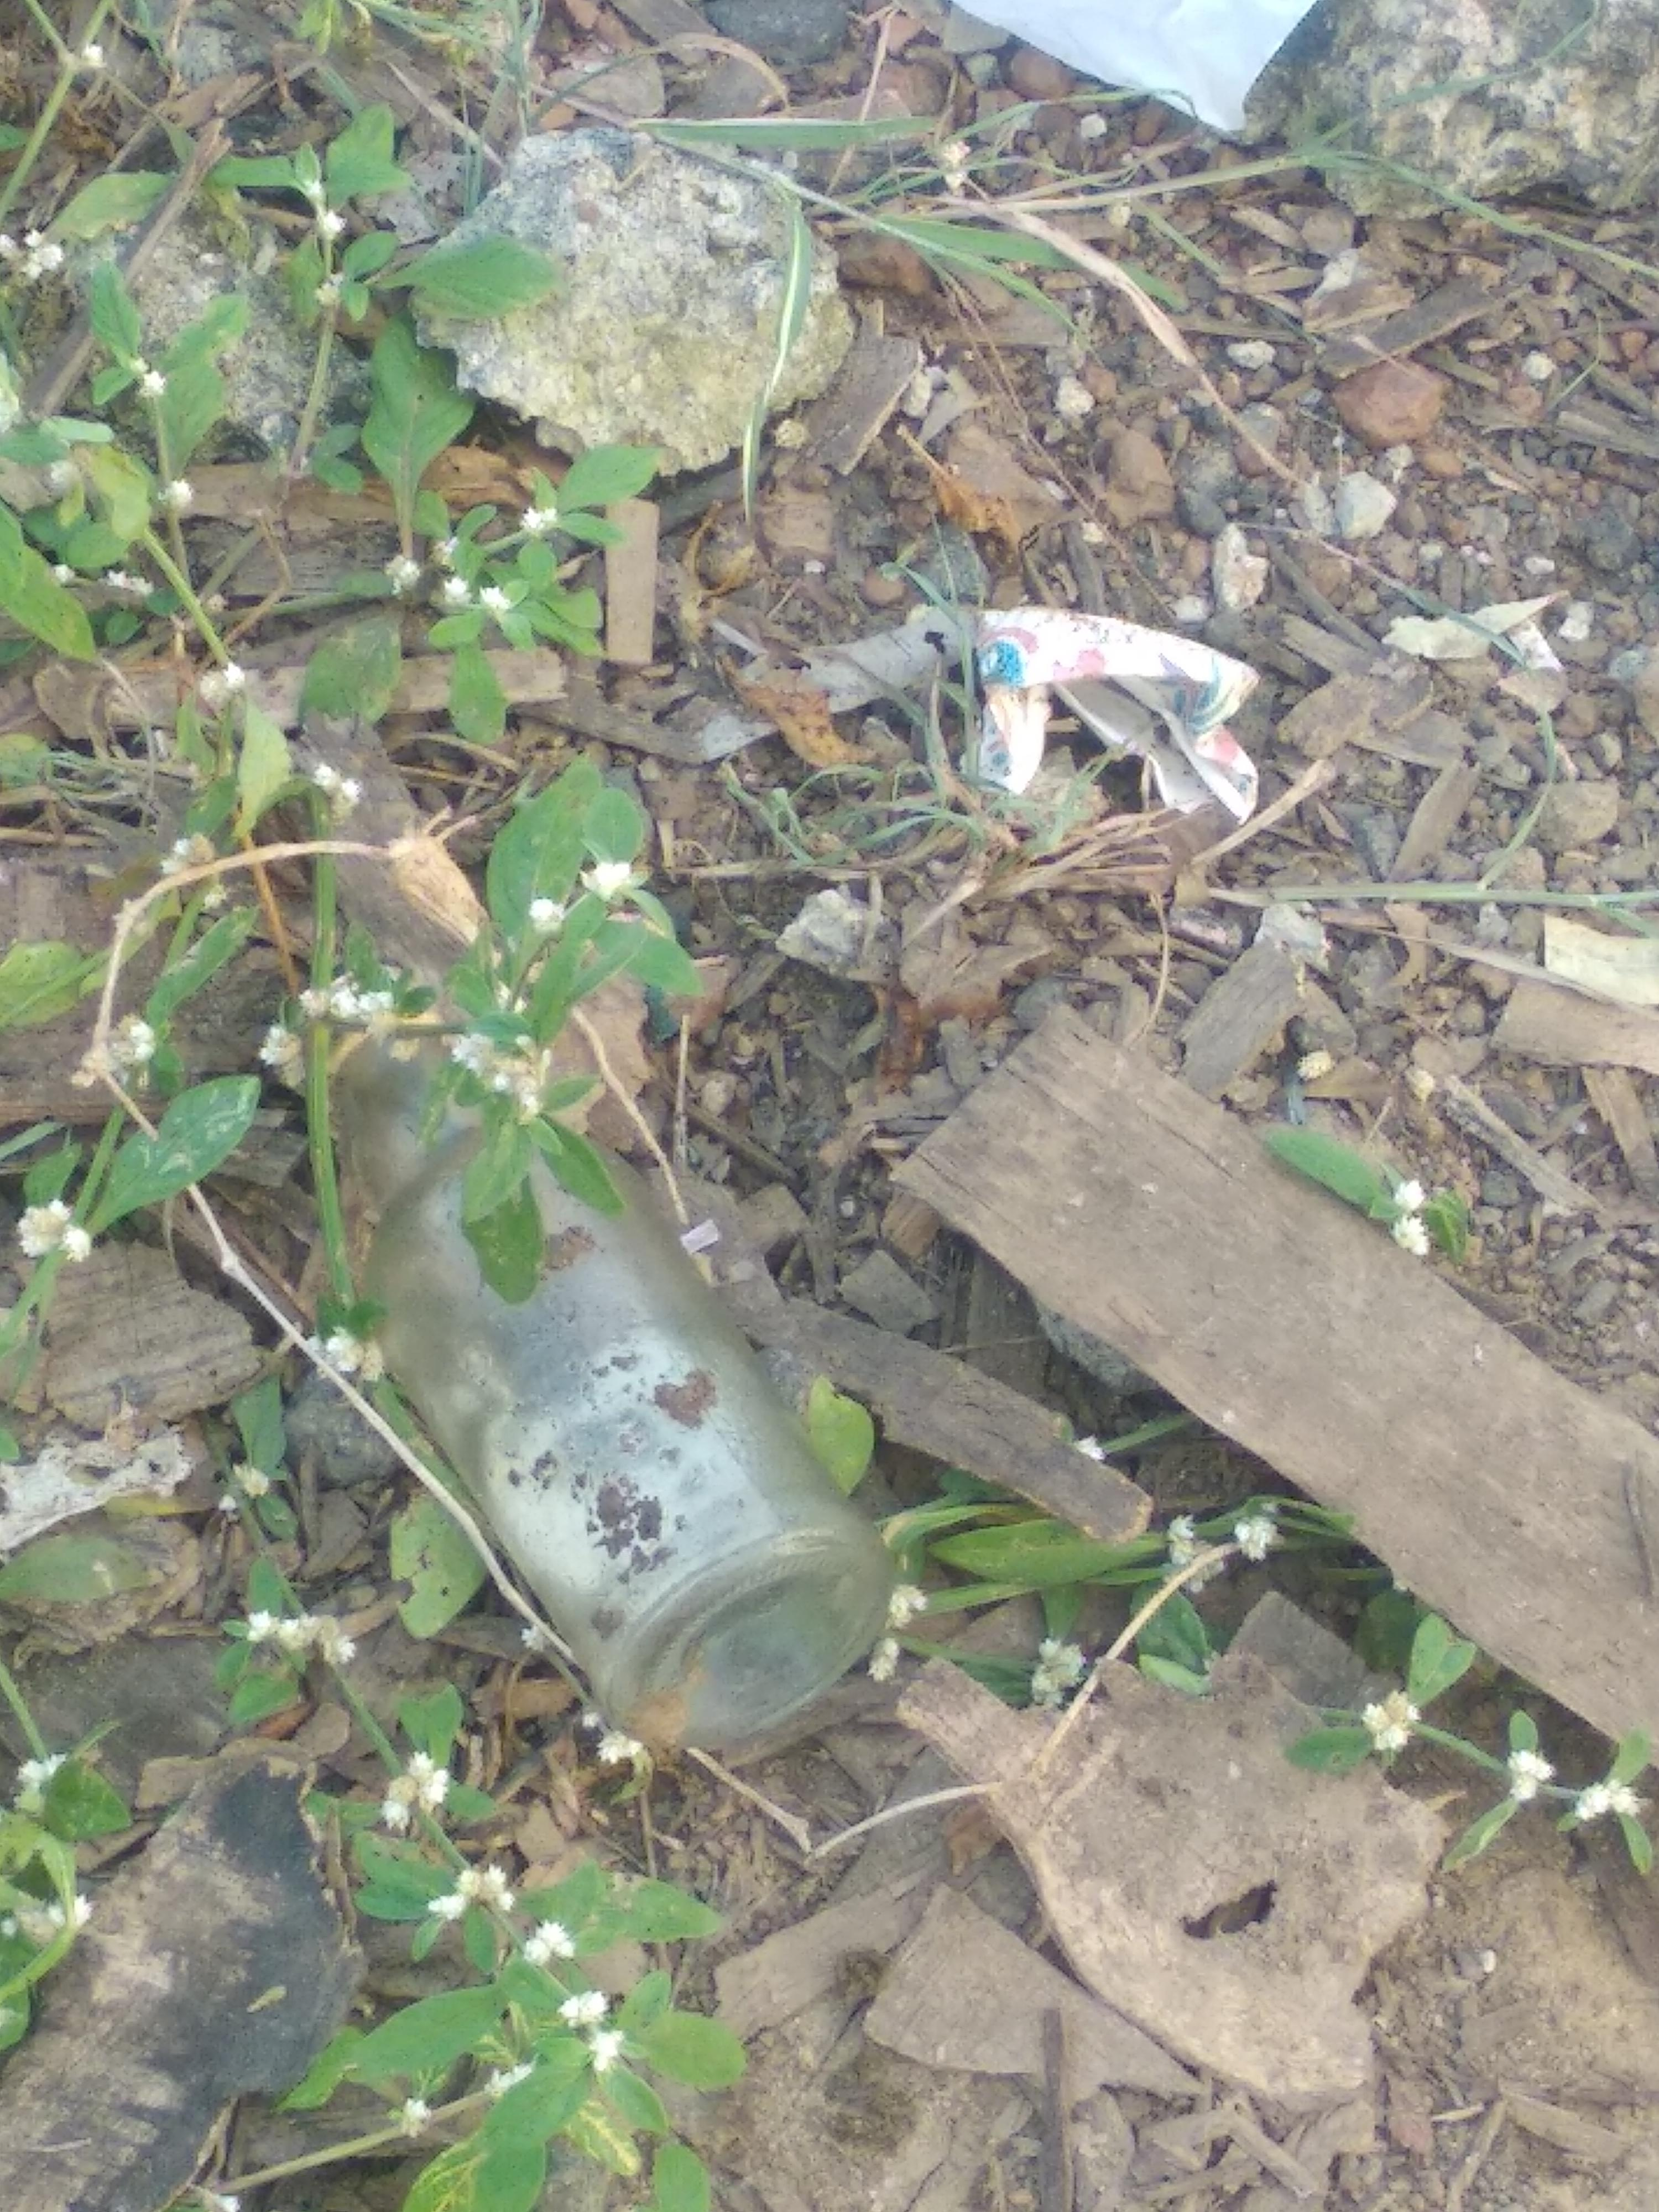organic: (213, 737, 920, 1867)
